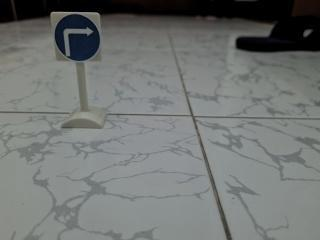right: (43, 5, 109, 66)
